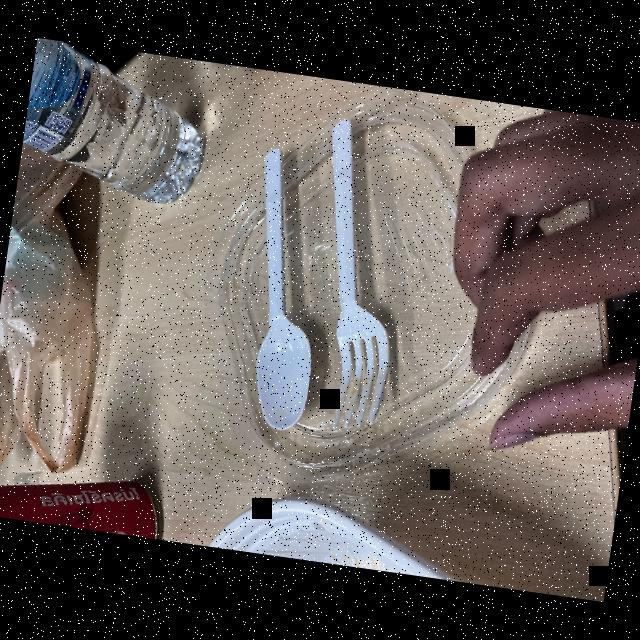plastic_spoon: (278, 116, 438, 442), (215, 126, 346, 447)
